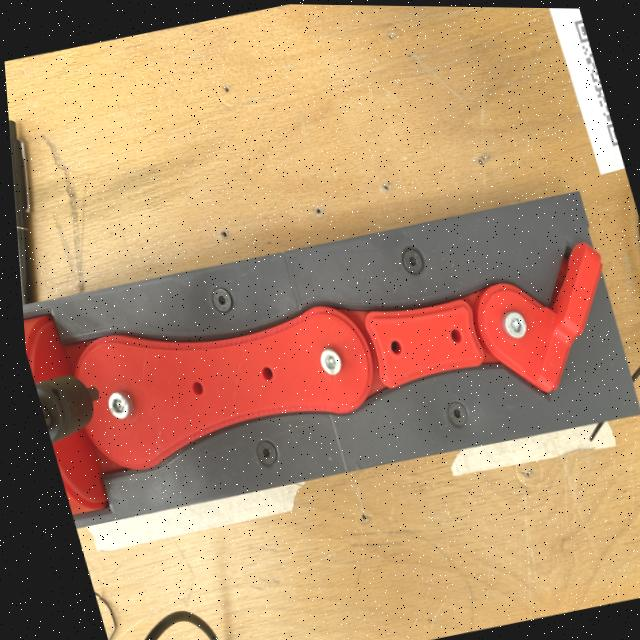Hex Socket Allen: (499, 308, 530, 341), (316, 345, 346, 377), (398, 246, 427, 277), (207, 285, 236, 316), (105, 389, 132, 421), (443, 399, 471, 429), (253, 438, 280, 468)
